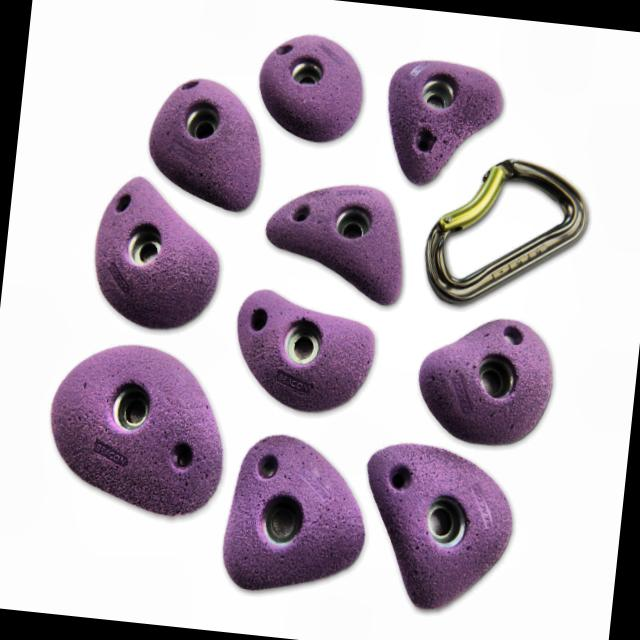Hold: (38, 338, 237, 526), (356, 436, 525, 612), (220, 429, 374, 603), (84, 157, 234, 330), (255, 167, 428, 309), (399, 303, 558, 446), (143, 63, 276, 221), (228, 286, 386, 412), (378, 52, 506, 195), (252, 20, 372, 148)
